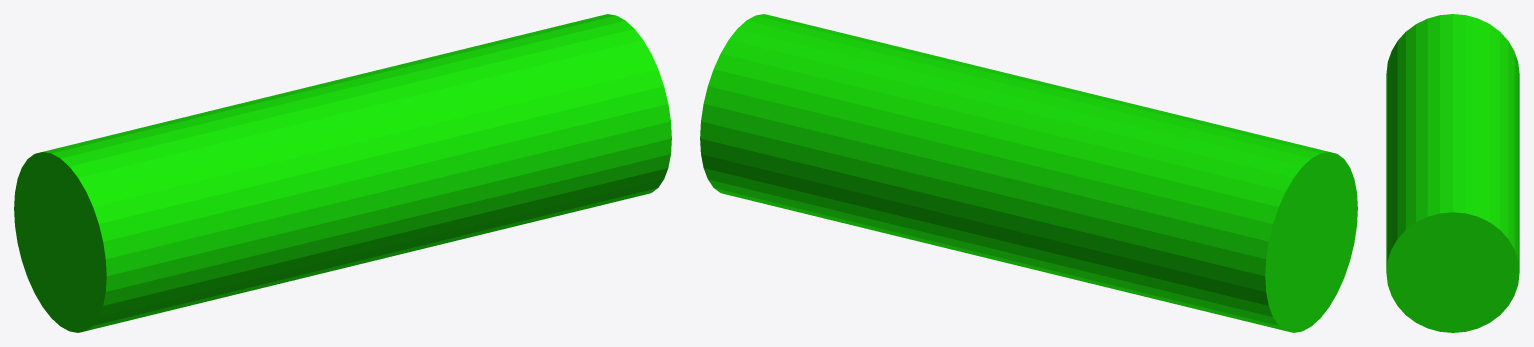
File: Robot Fore Arm Left.fbx
3 renders of one model, left to right at view 1: azimuth 30°, elevation 25°; view 2: azimuth 150°, elevation 25°; view 3: azimuth 270°, elevation 25°, orthographic. The views are drawn at different scales.
Parts seen in each view (by area): view 1: Cylinder.005; view 2: Cylinder.005; view 3: Cylinder.005.
Part boxes in pixels (bbox=[...]): Cylinder.005: bbox=[14, 14, 671, 332]; Cylinder.005: bbox=[700, 14, 1357, 332]; Cylinder.005: bbox=[1386, 14, 1519, 332].
Size of the model in its own units: 340 by 96.51 by 96.51.
